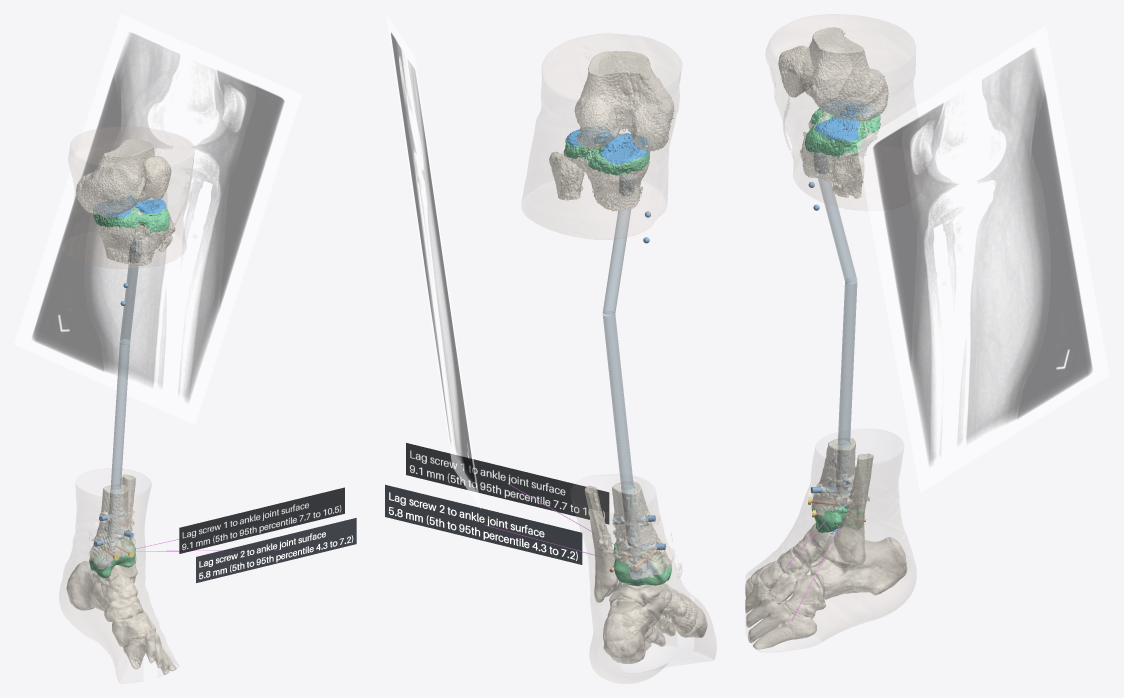
Rendered from 2022-06-27_102651_lat.glb.
3 views of the same model, side by side, from view 1: azimuth 30°, elevation 25°; view 2: azimuth 150°, elevation 25°; view 3: azimuth 270°, elevation 25° (orthographic). The views are drawn at different scales.
Parts seen in each view (by area): view 1: radiograph, skin, tibia, implant_8, implant_16, tarsal, femur, nail_modelled, metatarsal, capsule_band_knee, patella, articular_surface_knee (+3 smaller); view 2: skin, radiograph, femur, implant_17, implant_9, tibia, tarsal, nail_modelled, fibula, articular_surface_knee, capsule_band_knee, nail (+2 smaller); view 3: radiograph, skin, tarsal, femur, tibia, fibula, nail_modelled, metatarsal, capsule_band_knee, articular_surface_knee, patella, nail (+1 smaller).
Boxes of the visible parts, x1,y1,x2,y2 form: radiograph: [14, 14, 301, 424]; skin: [59, 126, 194, 682]; tibia: [89, 204, 167, 569]; implant_8: [179, 487, 344, 553]; implant_16: [196, 518, 356, 582]; tarsal: [66, 558, 155, 646]; femur: [76, 139, 155, 217]; nail_modelled: [110, 264, 138, 490]; metatarsal: [123, 629, 176, 674]; capsule_band_knee: [93, 200, 169, 232]; patella: [142, 156, 171, 200]; articular_surface_knee: [94, 195, 166, 217]; skin: [522, 34, 716, 683]; radiograph: [386, 14, 480, 508]; femur: [574, 51, 674, 151]; implant_17: [385, 484, 582, 564]; implant_9: [406, 443, 609, 524]; tibia: [563, 133, 671, 585]; tarsal: [603, 564, 697, 663]; nail_modelled: [602, 209, 633, 490]; fibula: [549, 151, 618, 602]; articular_surface_knee: [566, 126, 648, 164]; capsule_band_knee: [563, 132, 649, 175]; nail: [619, 172, 641, 564]; radiograph: [856, 26, 1109, 492]; skin: [746, 14, 915, 641]; tarsal: [750, 523, 907, 617]; femur: [805, 27, 888, 122]; tibia: [800, 111, 878, 532]; fibula: [832, 155, 873, 564]; nail_modelled: [818, 178, 857, 445]; metatarsal: [745, 577, 816, 649]; capsule_band_knee: [805, 108, 880, 157]; articular_surface_knee: [815, 99, 877, 141]; patella: [778, 45, 813, 97]; nail: [813, 152, 850, 509].
Size of the model in its own units: 0.2864 by 0.5864 by 0.2923.
Materials: 15 (3 with a texture image).
